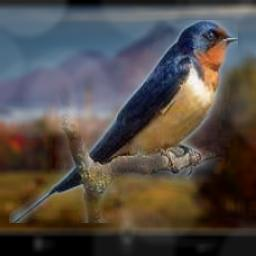Swallow: (9, 20, 238, 223)
